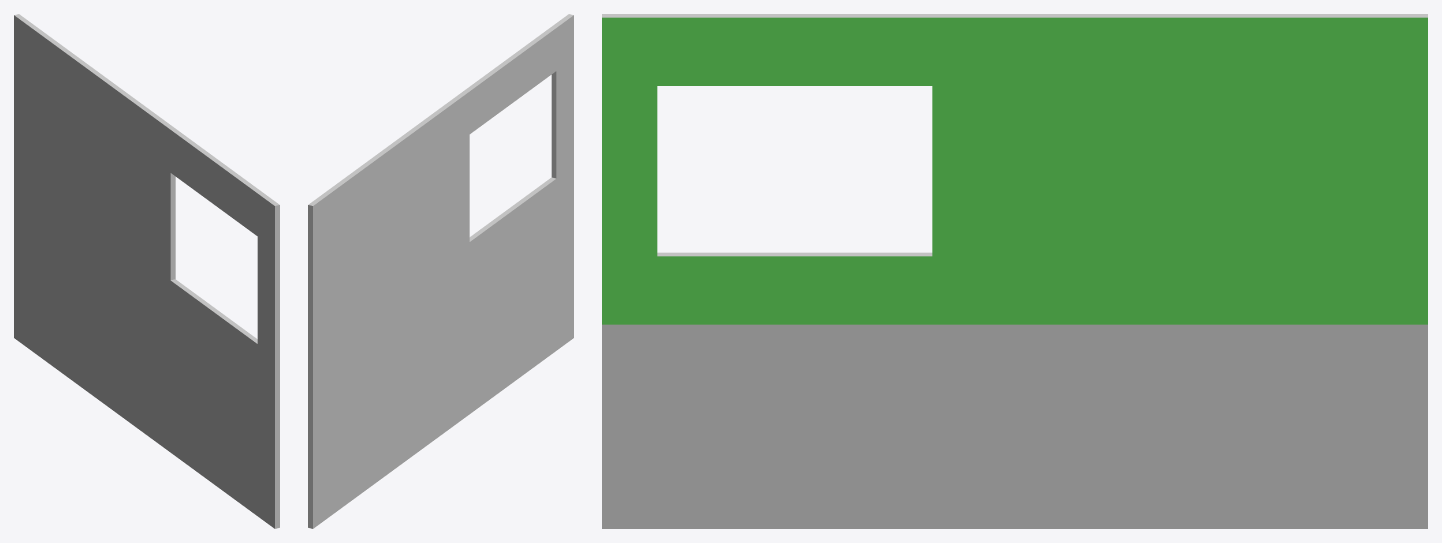
The model's file is window_wall_2.fbx.
3 views of the same model, side by side, from view 1: azimuth 30°, elevation 25°; view 2: azimuth 150°, elevation 25°; view 3: azimuth 270°, elevation 25° (orthographic). The views are drawn at different scales.
Parts seen in each view (by area): view 1: WindowWall; view 2: WindowWall; view 3: WindowWall.
Part boxes in pixels (x1=…): WindowWall: x1=14, y1=14, x2=279, y2=528; WindowWall: x1=308, y1=14, x2=573, y2=528; WindowWall: x1=602, y1=14, x2=1427, y2=528.
Size of the model in its own units: 439 by 27325 by 40003.
